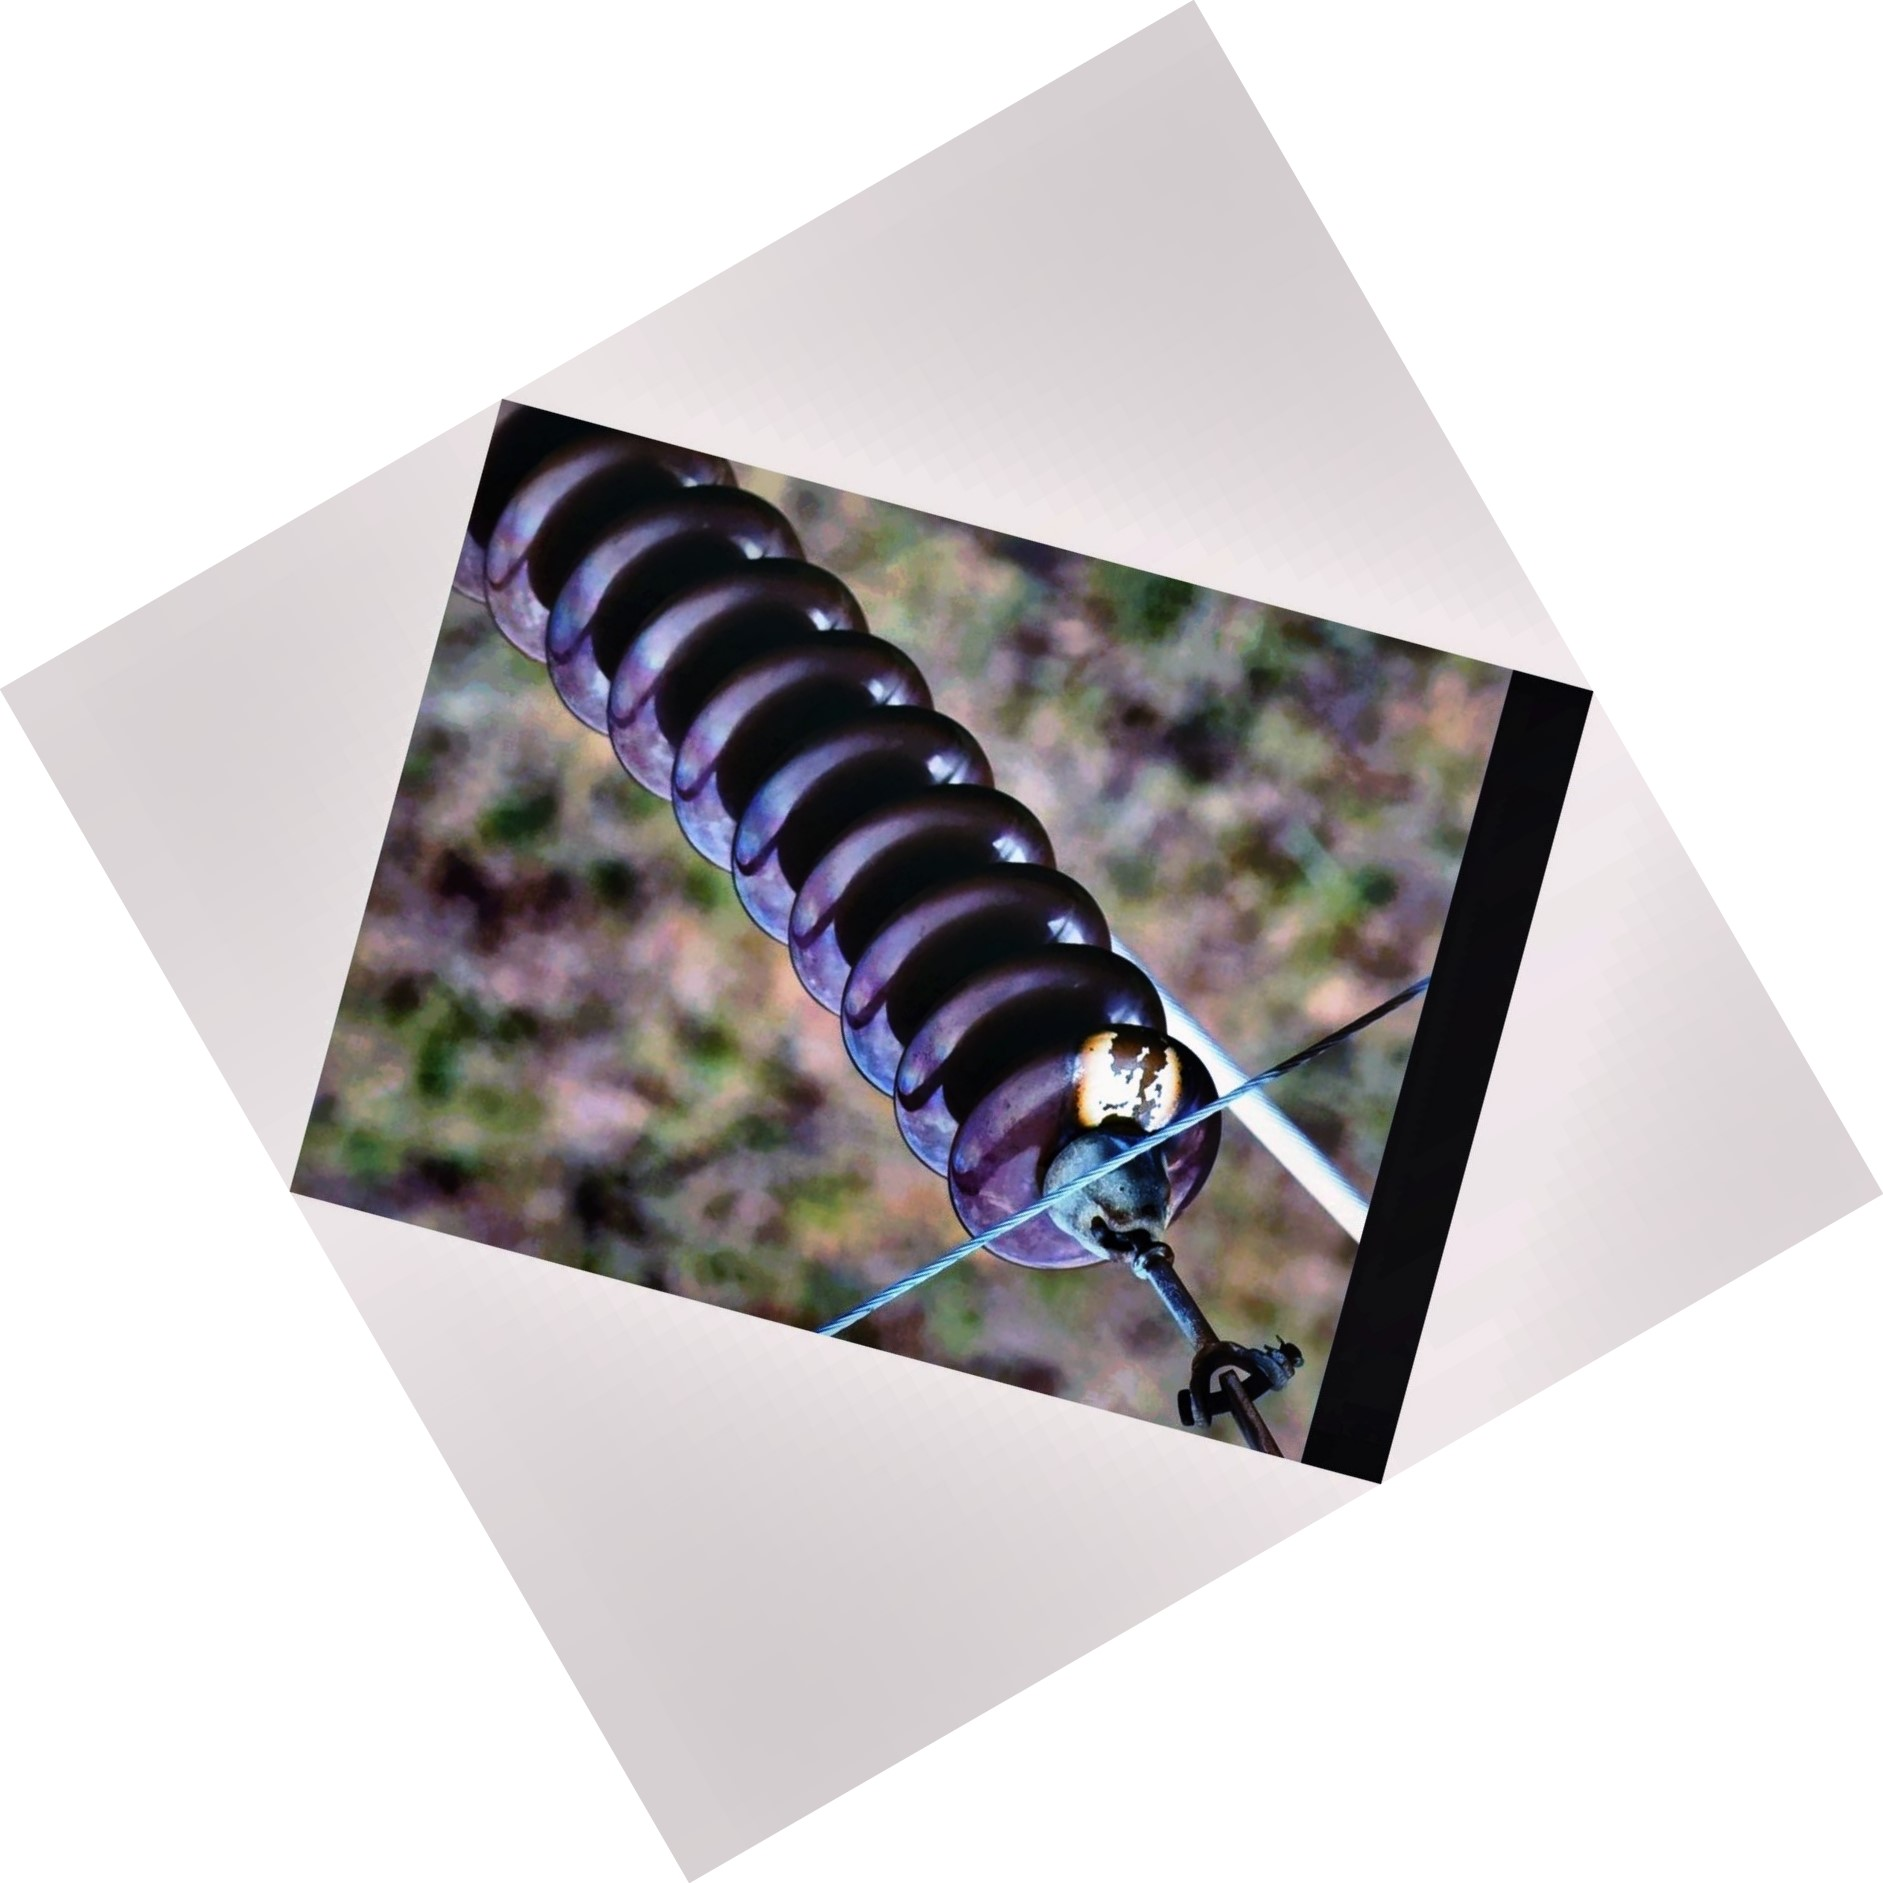Insulator flashover: (938, 1009, 1229, 1297)
